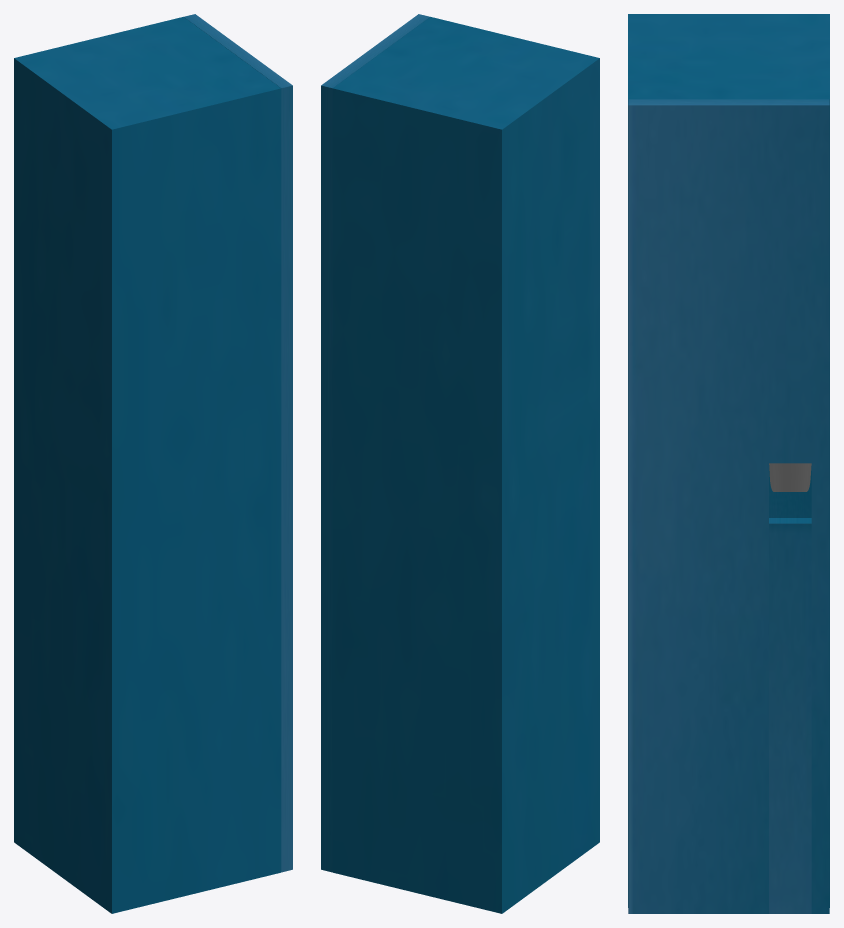
Rendered from lockerModel.fbx.
The picture shows the model from 3 angles, left to right: view 1: azimuth 30°, elevation 25°; view 2: azimuth 150°, elevation 25°; view 3: azimuth 270°, elevation 25°; orthographic projection. The views are drawn at different scales.
Visible parts, largest first — view 1: Locker - Body, Locker - Door; view 2: Locker - Body, Locker - Door; view 3: Locker - Door, Locker - Body.
Boxes of the visible parts, x1,y1,x2,y2 form: Locker - Body: (14, 17, 281, 913); Locker - Door: (184, 14, 292, 872); Locker - Body: (332, 17, 599, 913); Locker - Door: (321, 14, 429, 872); Locker - Door: (628, 99, 829, 913); Locker - Body: (628, 14, 829, 907).
Size of the model in its own units: 50.54 by 209 by 47.26.
